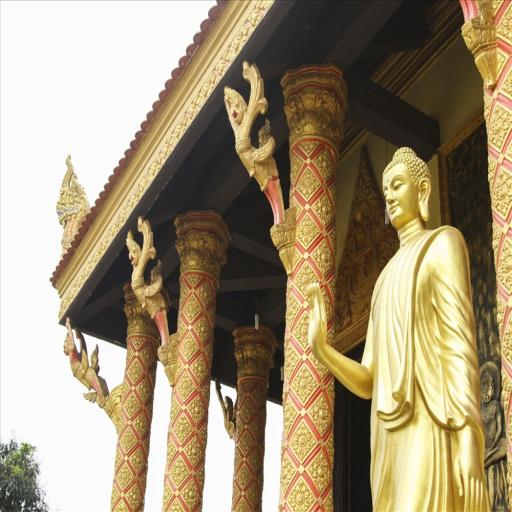hoa: (284, 475, 318, 512), (289, 421, 317, 462), (309, 392, 334, 433), (292, 365, 317, 405), (309, 449, 332, 490), (311, 235, 334, 274), (314, 143, 337, 181), (293, 263, 320, 294), (280, 398, 300, 438), (180, 474, 200, 512), (312, 192, 334, 226), (277, 454, 297, 491), (298, 166, 320, 199), (169, 455, 191, 487), (161, 428, 179, 466), (296, 214, 318, 245), (296, 313, 315, 348), (283, 344, 301, 379), (183, 433, 202, 466), (188, 353, 210, 381), (188, 391, 206, 424), (181, 296, 205, 320), (288, 148, 304, 184), (328, 370, 342, 411), (325, 425, 339, 464), (251, 380, 269, 410), (283, 292, 301, 322), (176, 371, 194, 400), (179, 332, 198, 359), (172, 413, 190, 441), (192, 317, 212, 342), (197, 278, 213, 308), (202, 342, 218, 372), (246, 447, 264, 473), (298, 138, 319, 160), (126, 483, 143, 510), (159, 478, 174, 508), (130, 446, 146, 472), (126, 359, 144, 382), (251, 411, 265, 440), (117, 463, 133, 488), (238, 430, 254, 455), (140, 344, 156, 368), (245, 480, 260, 505), (126, 392, 140, 418), (121, 428, 136, 452), (240, 399, 254, 424), (184, 270, 204, 287), (134, 412, 148, 436), (174, 318, 188, 342), (138, 377, 152, 400), (171, 357, 185, 380), (198, 462, 208, 492), (232, 448, 242, 477), (200, 420, 209, 452), (178, 280, 189, 306), (237, 463, 250, 485), (168, 397, 180, 420), (228, 482, 240, 505), (324, 489, 336, 512), (241, 378, 258, 394), (113, 446, 123, 472), (208, 304, 218, 330), (202, 380, 212, 404), (146, 399, 156, 422), (110, 482, 119, 507), (237, 382, 246, 407), (114, 498, 129, 512), (130, 336, 147, 348), (124, 344, 133, 366), (118, 412, 126, 434)
ran: (51, 152, 94, 248)
than: (309, 140, 502, 512), (218, 54, 291, 232), (119, 215, 180, 354), (57, 313, 120, 408), (213, 370, 241, 442)
